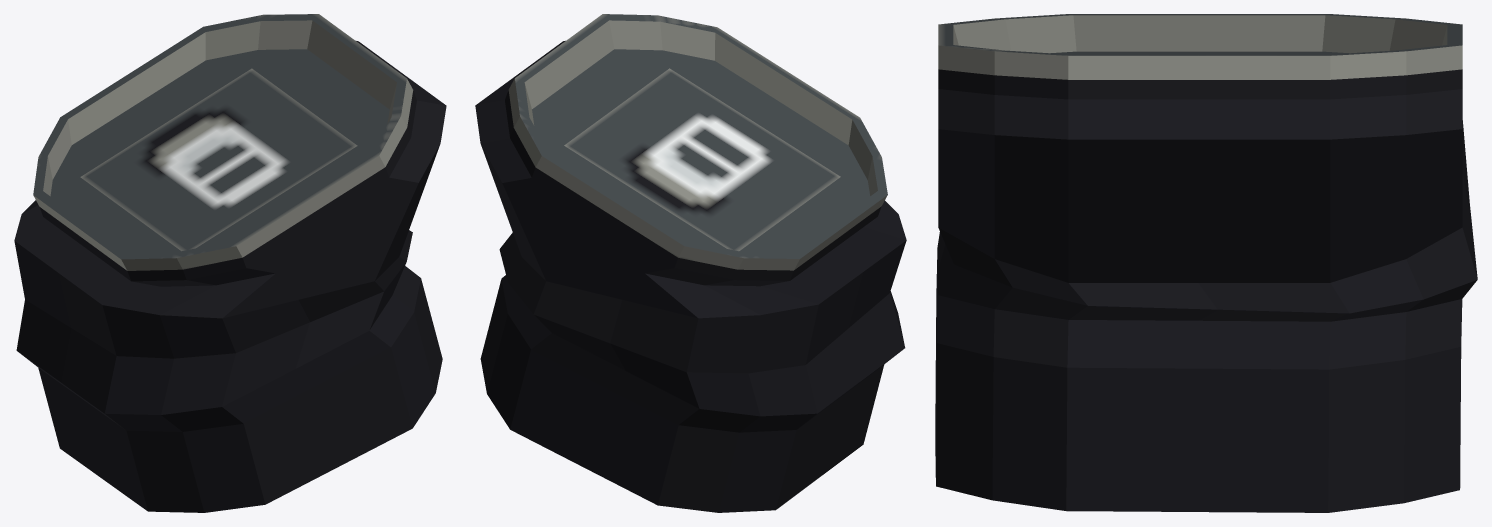
Rendered from agression-beverage.obj.
The picture shows the model from 3 angles, left to right: view 1: azimuth 30°, elevation 25°; view 2: azimuth 150°, elevation 25°; view 3: azimuth 270°, elevation 25°; orthographic projection. The views are drawn at different scales.
Visible parts, largest first — view 1: Cube_Cube.001; view 2: Cube_Cube.001; view 3: Cube_Cube.001.
Boxes of the visible parts, x1,y1,x2,y2 form: Cube_Cube.001: (14,14,446,512); Cube_Cube.001: (475,14,906,512); Cube_Cube.001: (935,14,1477,512).
Bounding box in the file's own units: 2.26 × 2.32 × 2.07.
